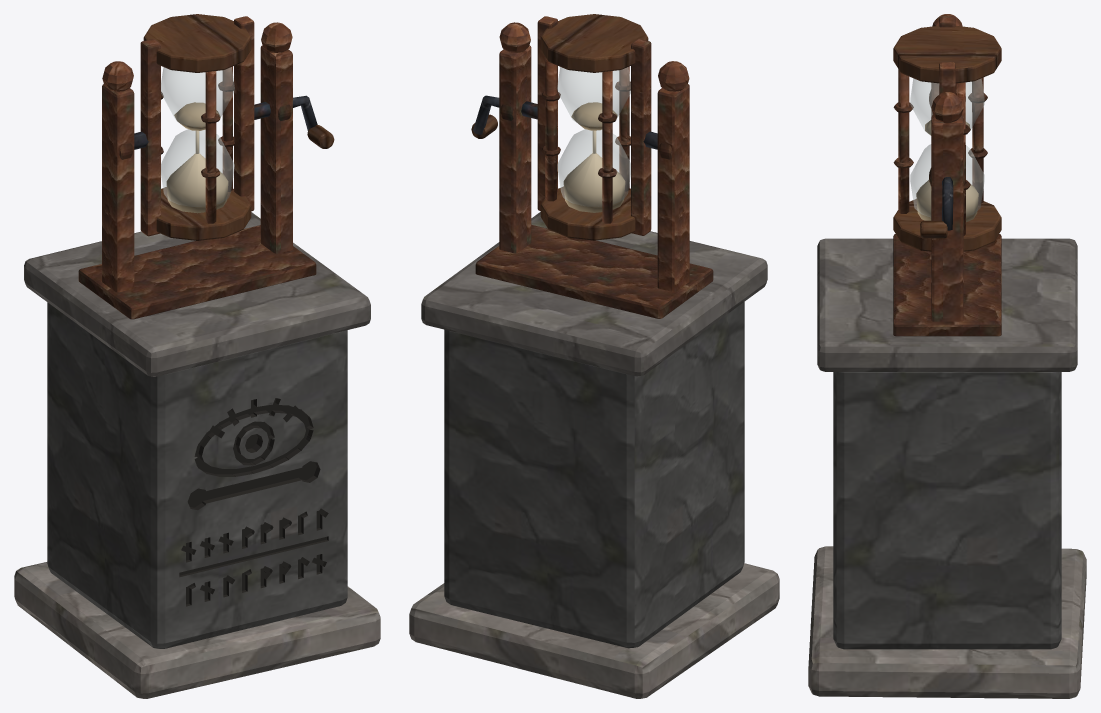
The model's file is vo_hourglass_stand.glb.
3 renders of one model, left to right at view 1: azimuth 30°, elevation 25°; view 2: azimuth 150°, elevation 25°; view 3: azimuth 270°, elevation 25°, orthographic.
Parts seen in each view (by area): view 1: model; view 2: model; view 3: model.
Boxes of the visible parts, left/top/right/bottom form: model: left=14, top=14, right=380, bottom=698; model: left=409, top=14, right=779, bottom=698; model: left=808, top=14, right=1086, bottom=698.
Bounding box in the file's own units: 0.5321 × 1.22 × 0.512.
Materials: 10 (7 with a texture image).
